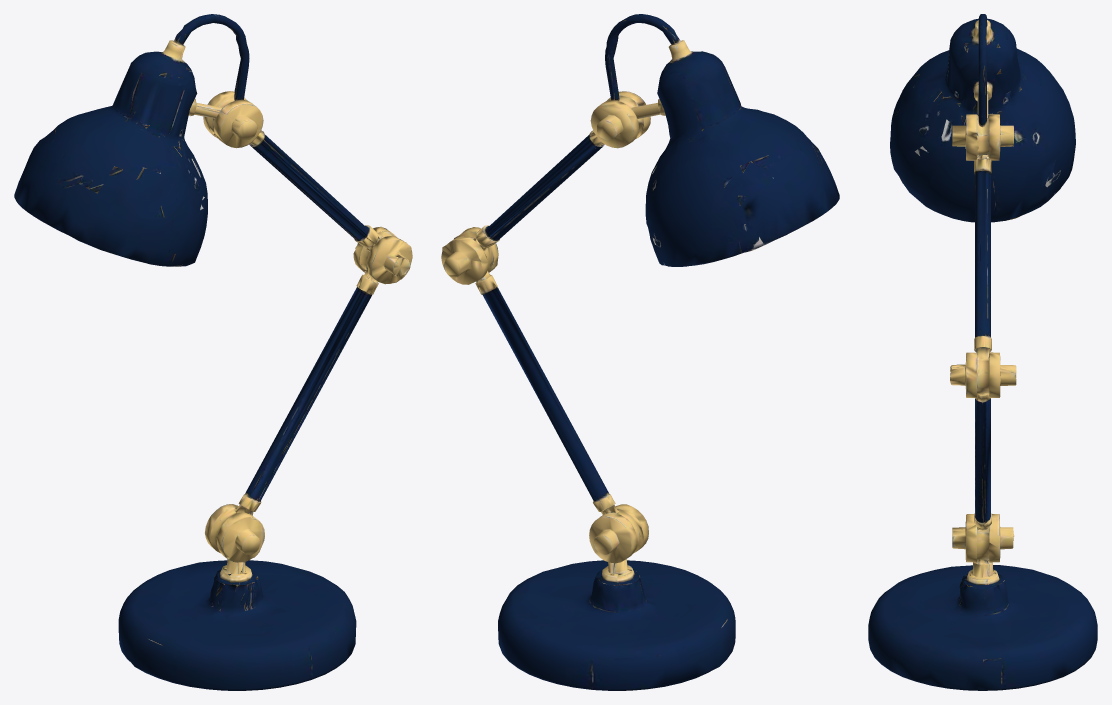
File: desk_lamp.glb
3 renders of one model, left to right at view 1: azimuth 30°, elevation 25°; view 2: azimuth 150°, elevation 25°; view 3: azimuth 270°, elevation 25°, orthographic. The views are drawn at different scales.
Visible parts, largest first — view 1: prop; view 2: prop; view 3: prop.
Part boxes in pixels (box(x1,y1,x2,y2)): prop: box(14, 14, 412, 690); prop: box(441, 14, 839, 690); prop: box(868, 14, 1097, 690).
Bounding box in the file's own units: 0.3421 × 0.55 × 0.1873.
Materials: 1 (1 with a texture image).
